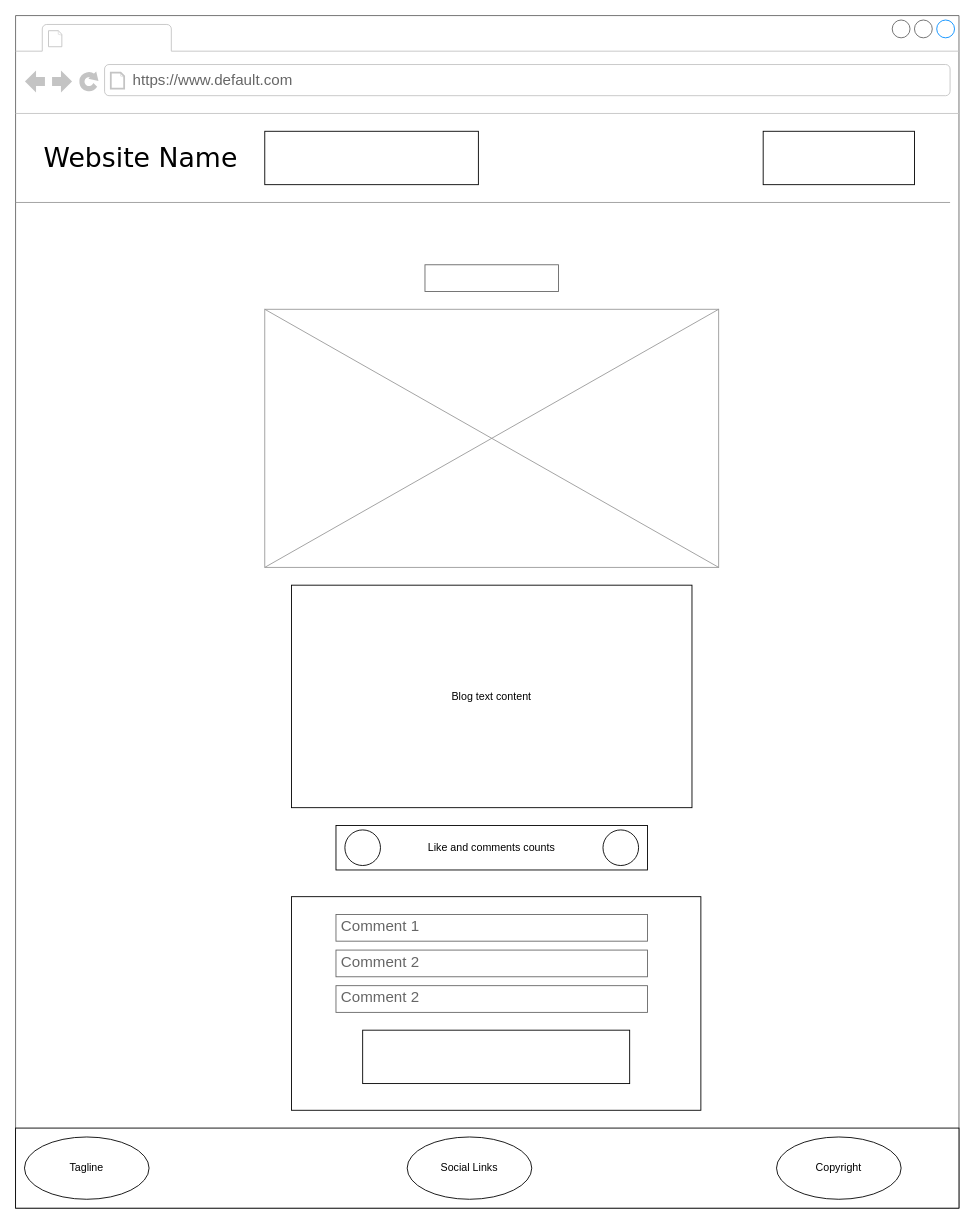
Some shapes in this 975 by 1224 pixel diagram are drawn without their labels. Here are the shapes that lost their labels. From the top down, the centre of each, then its label:
At (x=117, y=37): "Page 1".
At (x=371, y=157): "Navigation Links".
At (x=838, y=157): "Login Status".
At (x=491, y=277): "Blog Title".
At (x=496, y=1056): "Submit comment here".
